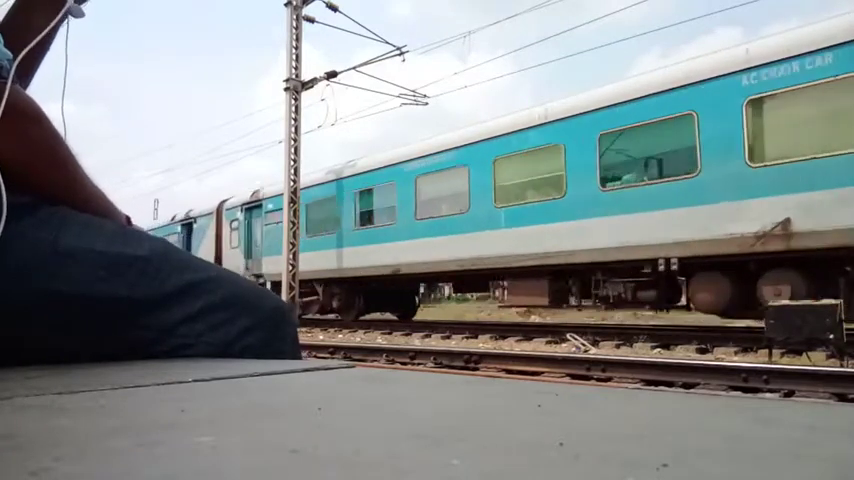Car Type: (731, 46, 837, 93)
